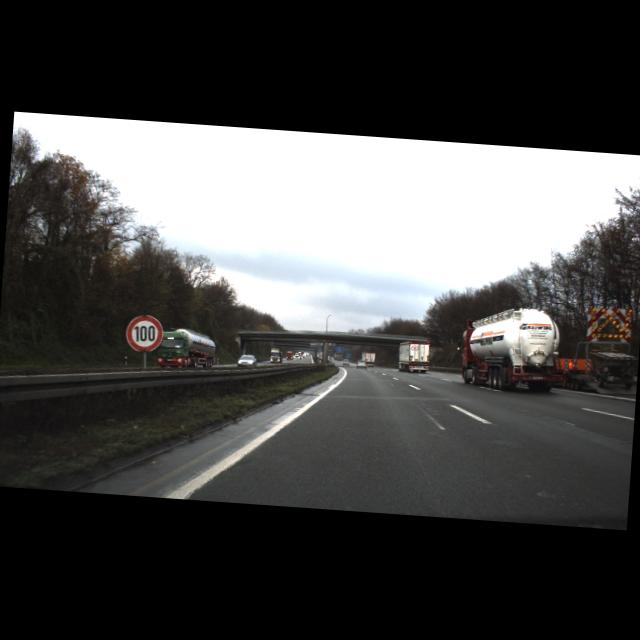prohibitory: (124, 313, 163, 352)
